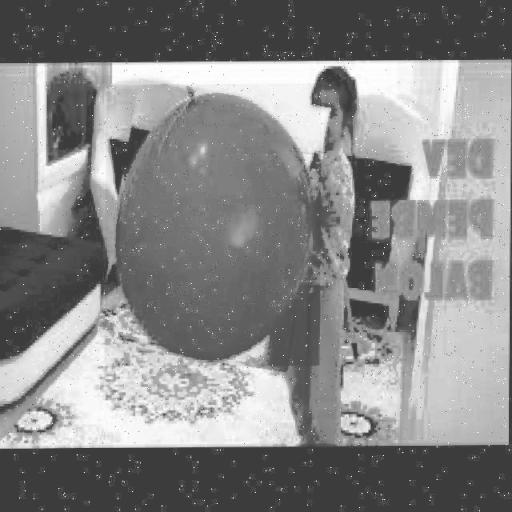balloon: (120, 90, 314, 360)
